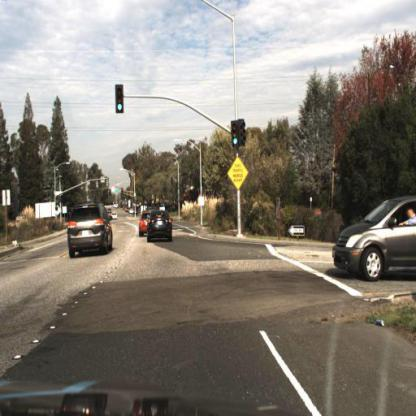car: (334, 194, 416, 286), (66, 198, 115, 260), (146, 205, 177, 245)
trafficLight-Green: (115, 85, 127, 114), (231, 118, 241, 148)
